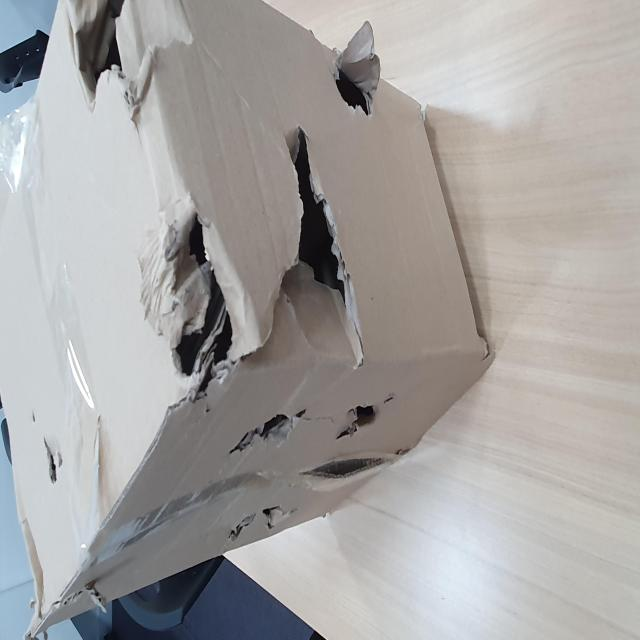damaged: (142, 284, 248, 432), (188, 506, 294, 606), (303, 121, 360, 252), (98, 402, 136, 547), (292, 591, 336, 640), (106, 602, 144, 640)
